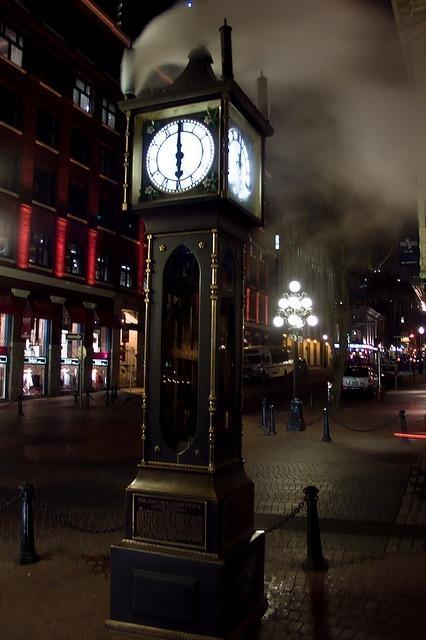car: (346, 366, 380, 388)
